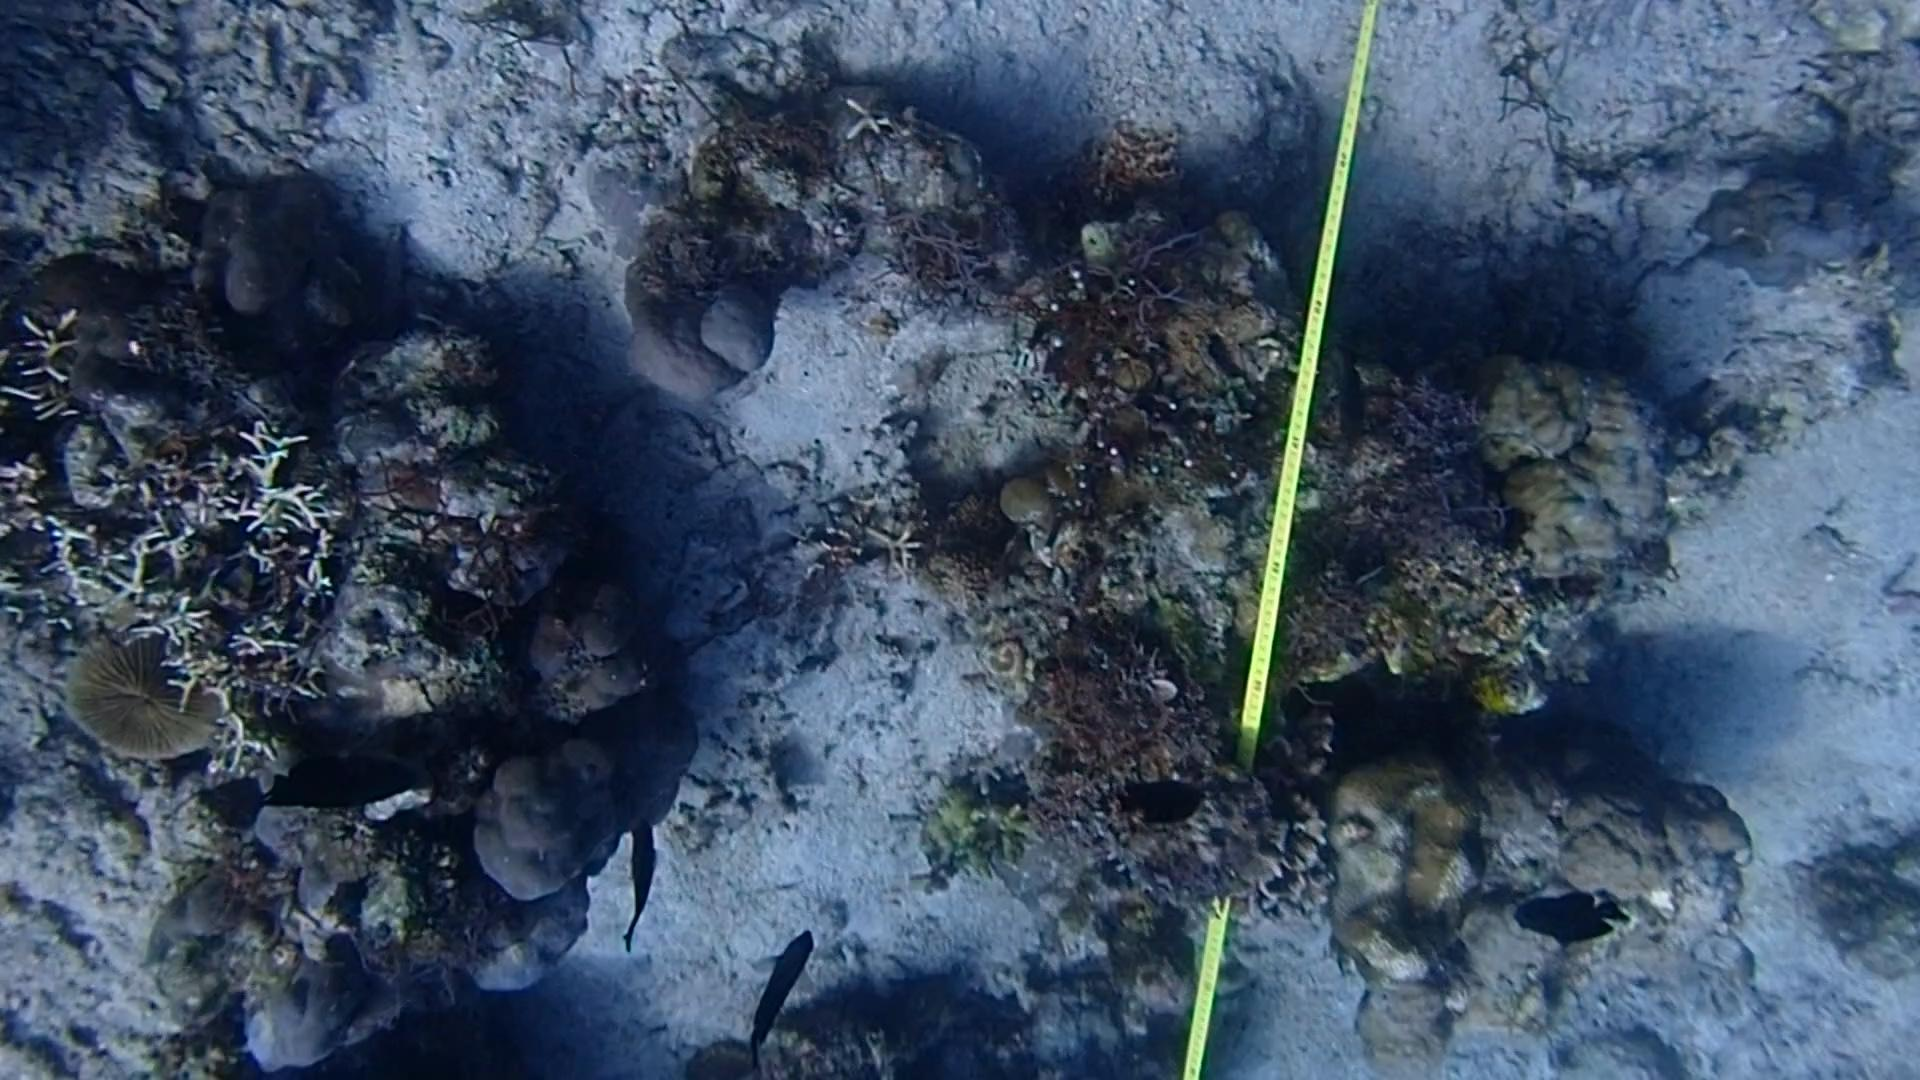Dark Fish: (265, 741, 417, 829), (1493, 870, 1635, 963), (736, 920, 823, 1067), (608, 810, 687, 949), (1308, 340, 1399, 450), (1102, 761, 1200, 832)
